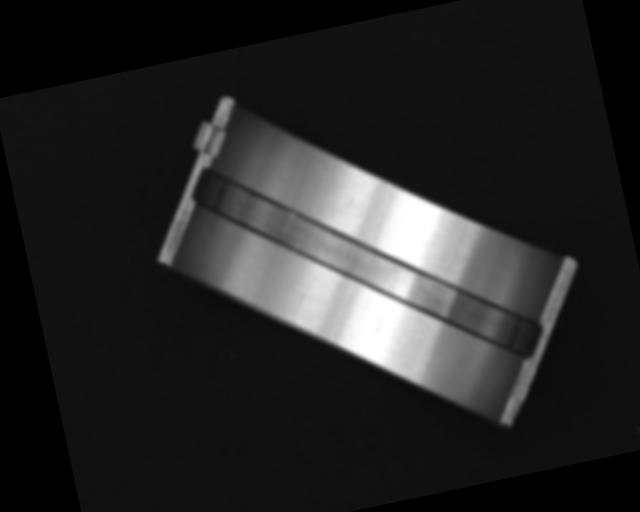gap: (188, 108, 548, 420)
nick: (288, 279, 318, 315)
